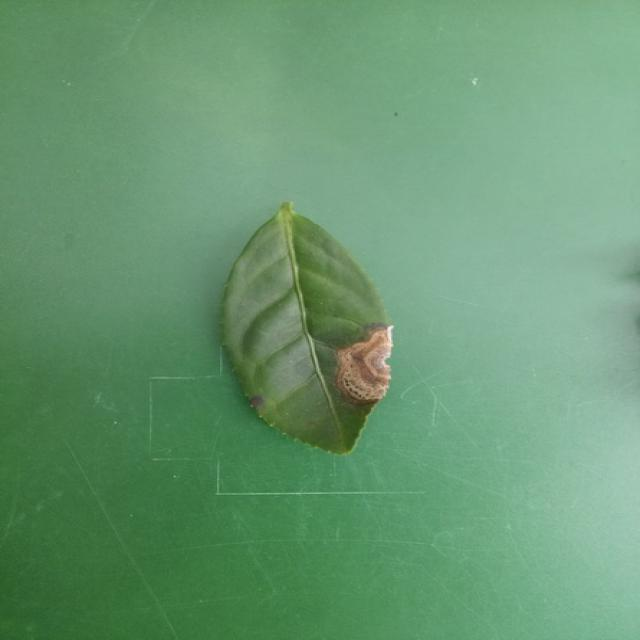Tea cloud leaf blight: (333, 319, 414, 403)
